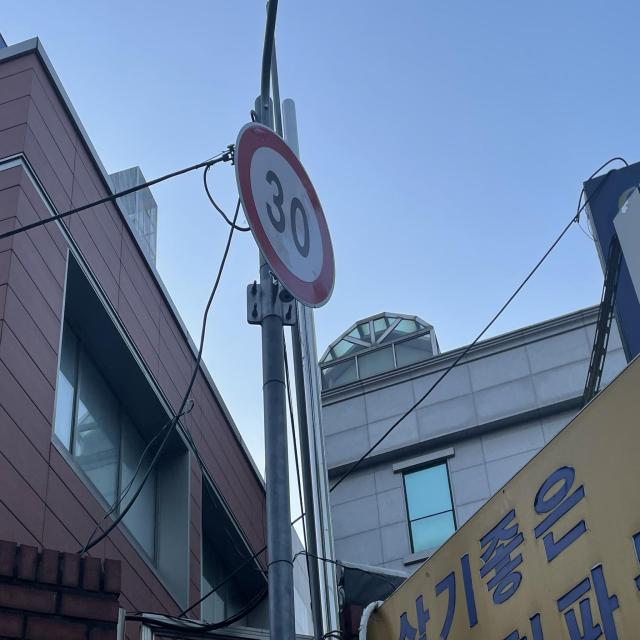speed_limit_30: (235, 124, 334, 308)
